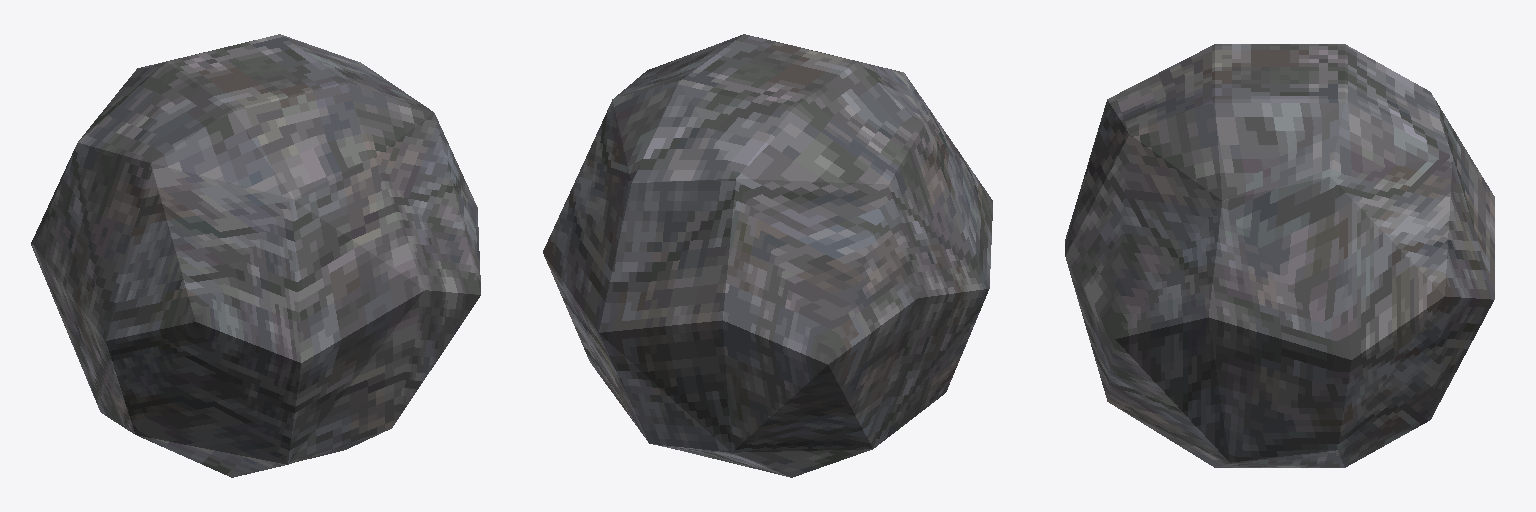
3 views of the same model, side by side, from view 1: azimuth 30°, elevation 25°; view 2: azimuth 150°, elevation 25°; view 3: azimuth 270°, elevation 25° (orthographic).
Visible parts, largest first — view 1: mesh-0; view 2: mesh-0; view 3: mesh-0.
Part boxes in pixels (x1,y1,x2,y2): mesh-0: (31, 34, 480, 477); mesh-0: (543, 34, 992, 477); mesh-0: (1065, 44, 1494, 467).
Bounding box in the file's own units: 39.8 × 37.68 × 39.8.
Materials: 1 (1 with a texture image).